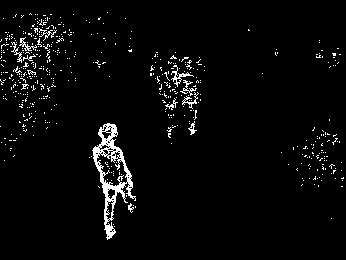person: (93, 118, 141, 241)
